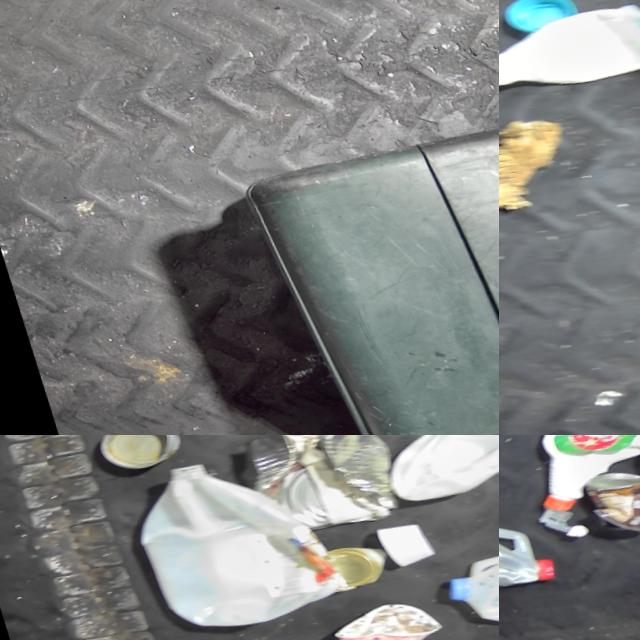can: (220, 435, 404, 544), (568, 455, 640, 540), (316, 527, 390, 588), (83, 435, 185, 478)
milk_jug: (108, 435, 349, 640), (499, 0, 640, 112), (499, 435, 640, 523), (360, 435, 499, 513), (420, 505, 499, 639), (499, 495, 551, 600)
